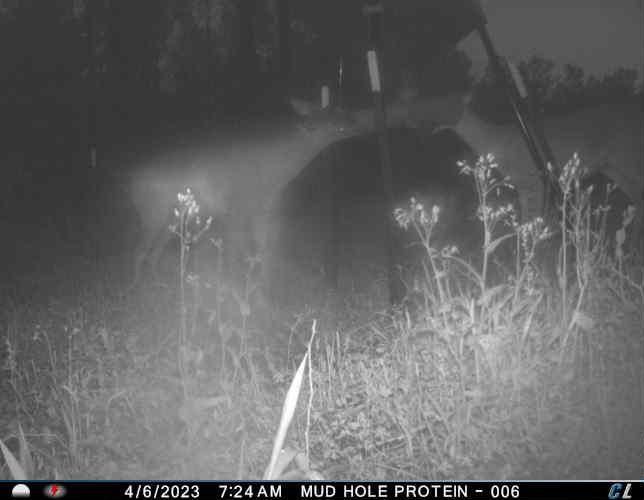Deer: (126, 90, 362, 295), (430, 85, 644, 254)
